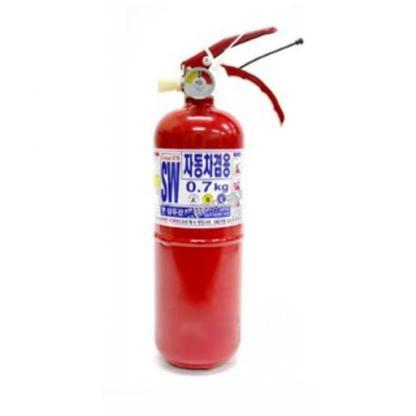Fire Extinguisher: (140, 28, 309, 390)
